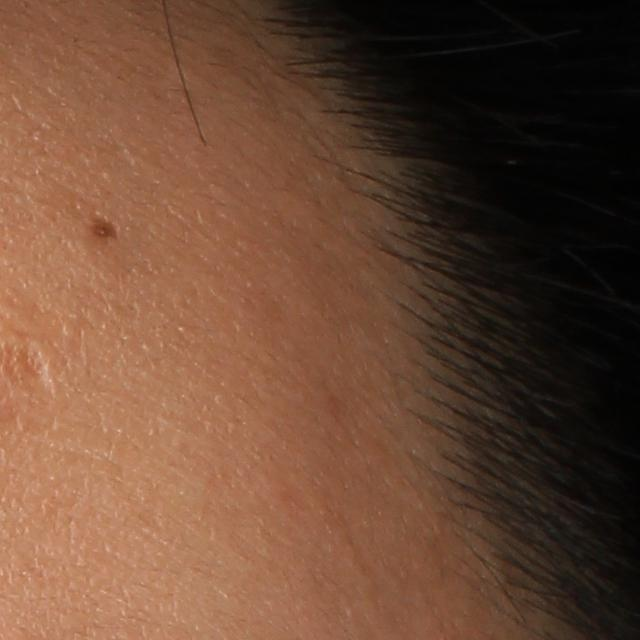nevus: (89, 209, 116, 242)
